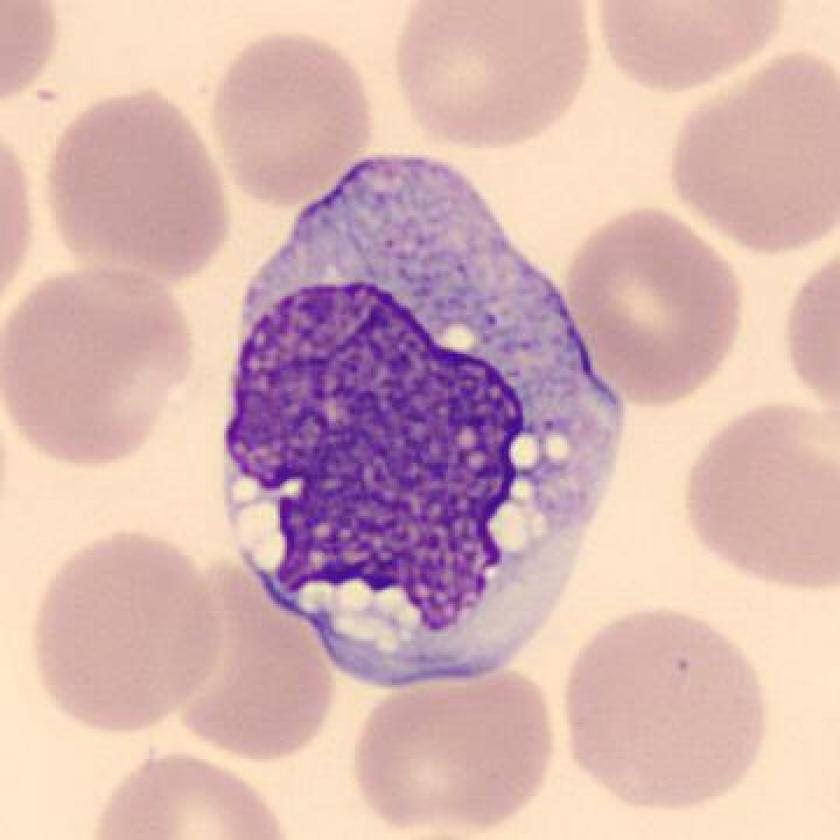monocyte: (204, 138, 650, 698)
